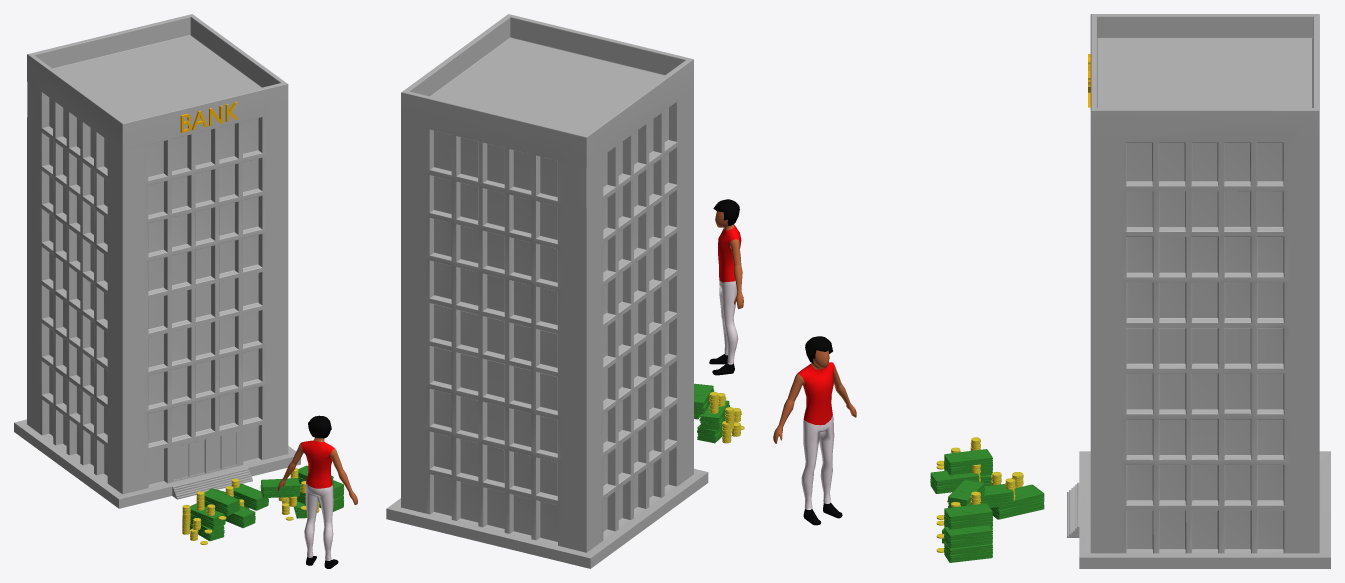
3 renders of one model, left to right at view 1: azimuth 30°, elevation 25°; view 2: azimuth 150°, elevation 25°; view 3: azimuth 270°, elevation 25°, orthographic. The views are drawn at different scales.
Visible parts, largest first — view 1: bank, corpo.001, Money_0.010, Money_0.004, Money_0.013, Money_0.012, Money_0, Money_0.011, corpo.002; view 2: bank, corpo.001, Money_0.004, Money_0.010, Money_0; view 3: bank, corpo.001, Money_0.007, Money_0.010, Money_0.002, Money_0.009, Money_0.011, Money_0.013, Money_0.008, Money_0.012.
Boxes of the visible parts, x1,y1,x2,y2 form: bank: (14,14,300,508); corpo.001: (278,437,357,568); Money_0.010: (196,489,239,519); Money_0.004: (182,503,225,533); Money_0.013: (231,478,300,497); Money_0.012: (225,483,268,510); Money_0: (182,516,224,544); Money_0.011: (225,505,255,527); corpo.002: (308,415,331,438); bank: (386,14,708,568); corpo.001: (709,211,743,375); Money_0.004: (699,400,741,430); Money_0.010: (694,383,726,414); Money_0: (697,420,744,443); bank: (1067,14,1330,568); corpo.001: (773,350,856,525); Money_0.007: (936,491,992,529); Money_0.010: (936,437,992,474); Money_0.002: (990,472,1044,519); Money_0.009: (936,525,992,548); Money_0.011: (930,464,980,493); Money_0.013: (947,478,1015,507); Money_0.008: (936,541,992,562); Money_0.012: (980,471,1013,507).
Size of the model in its own units: 2.1 by 4.19 by 4.65.
